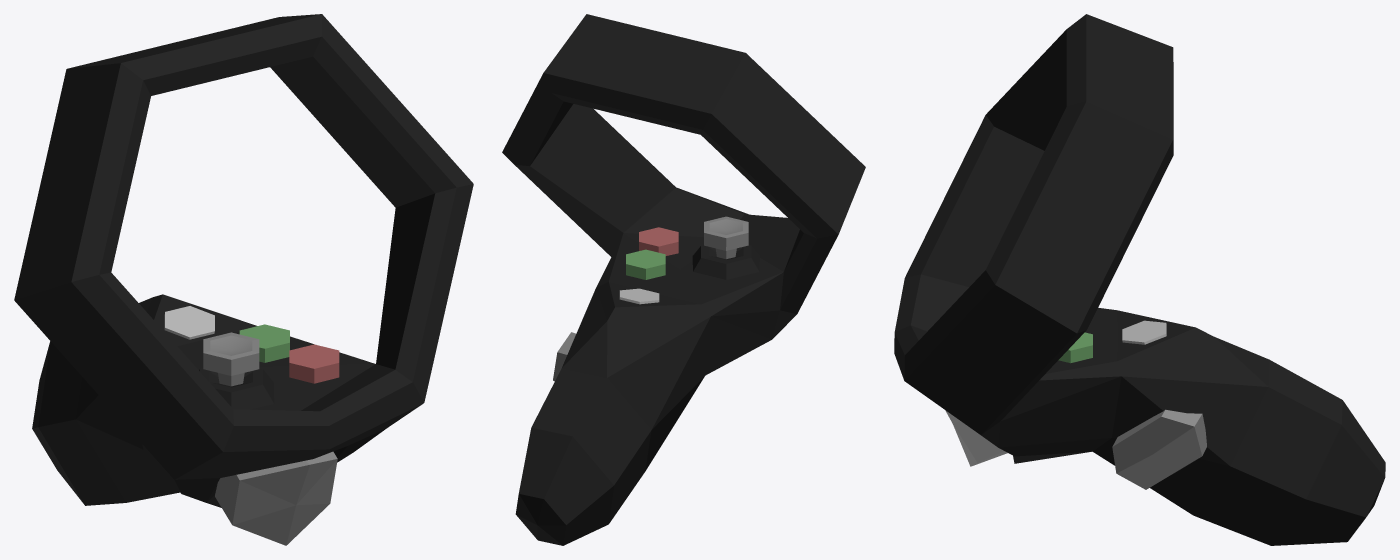
The model's file is RightOculusTouch.fbx.
3 renders of one model, left to right at view 1: azimuth 30°, elevation 25°; view 2: azimuth 150°, elevation 25°; view 3: azimuth 270°, elevation 25°, orthographic. The views are drawn at different scales.
Visible parts, largest first — view 1: ControllerMain, Trigger, Thumbstick, Top_Button, Option_Button, Bottom_Button; view 2: ControllerMain, Thumbstick, Bottom_Button, Top_Button, Option_Button; view 3: ControllerMain, GripTrigger, Trigger, Option_Button, Bottom_Button.
Part boxes in pixels (x1=…): ControllerMain: x1=14, y1=14, x2=473, y2=507; Trigger: x1=215, y1=451, x2=337, y2=545; Thumbstick: x1=203, y1=332, x2=259, y2=386; Top_Button: x1=289, y1=344, x2=339, y2=383; Option_Button: x1=164, y1=306, x2=214, y2=339; Bottom_Button: x1=239, y1=324, x2=289, y2=362; ControllerMain: x1=502, y1=14, x2=865, y2=545; Thumbstick: x1=704, y1=216, x2=748, y2=259; Bottom_Button: x1=626, y1=249, x2=665, y2=279; Top_Button: x1=639, y1=227, x2=678, y2=255; Option_Button: x1=619, y1=288, x2=659, y2=304; ControllerMain: x1=894, y1=14, x2=1385, y2=545; GripTrigger: x1=1112, y1=409, x2=1206, y2=489; Trigger: x1=945, y1=410, x2=1007, y2=466; Option_Button: x1=1122, y1=320, x2=1166, y2=344; Bottom_Button: x1=1058, y1=332, x2=1092, y2=363.
Bounding box in the file's own units: 10.33 × 12.49 × 11.62.
